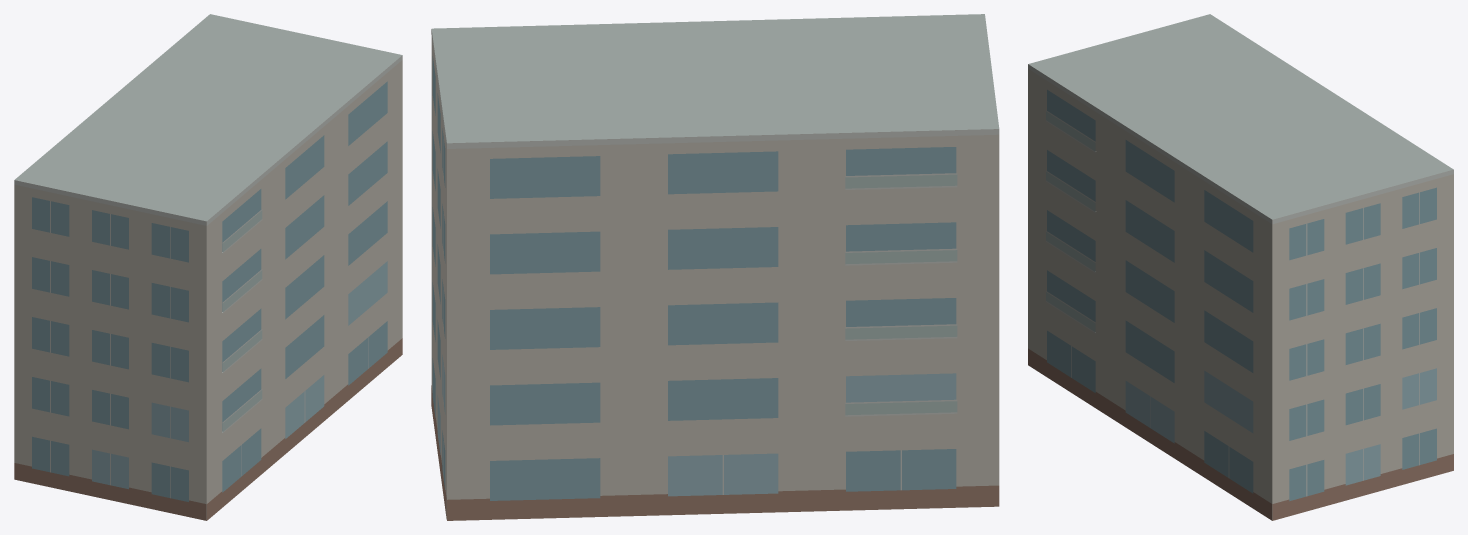
The model's file is survey-upis-32908759.glb.
3 renders of one model, left to right at view 1: azimuth 30°, elevation 25°; view 2: azimuth 150°, elevation 25°; view 3: azimuth 270°, elevation 25°, orthographic. The views are drawn at different scales.
Visible parts, largest first — view 1: survey-upis-32908759.tmp; view 2: survey-upis-32908759.tmp; view 3: survey-upis-32908759.tmp.
Boxes of the visible parts, x1,y1,x2,y2 form: survey-upis-32908759.tmp: [14, 14, 402, 520]; survey-upis-32908759.tmp: [431, 14, 999, 520]; survey-upis-32908759.tmp: [1028, 14, 1453, 520].
Bounding box in the file's own units: 23.38 × 15.95 × 20.45.
